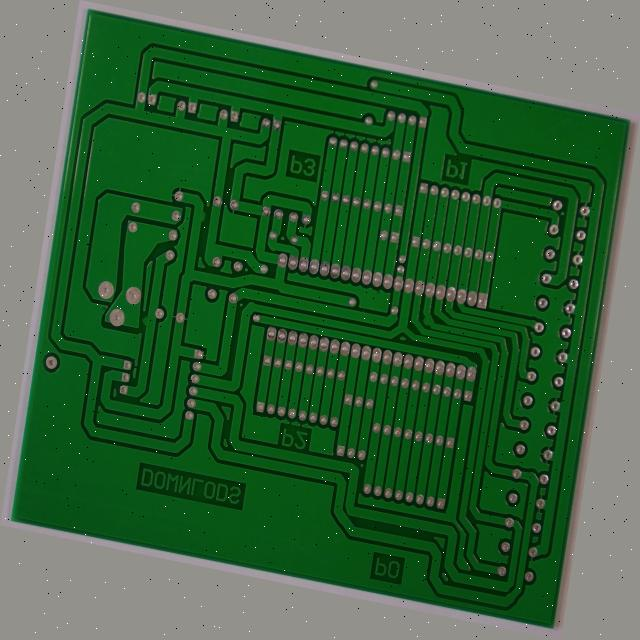spur: (121, 353, 136, 376), (432, 283, 447, 305), (166, 215, 180, 238)
